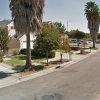Tree: (80, 1, 100, 54)
